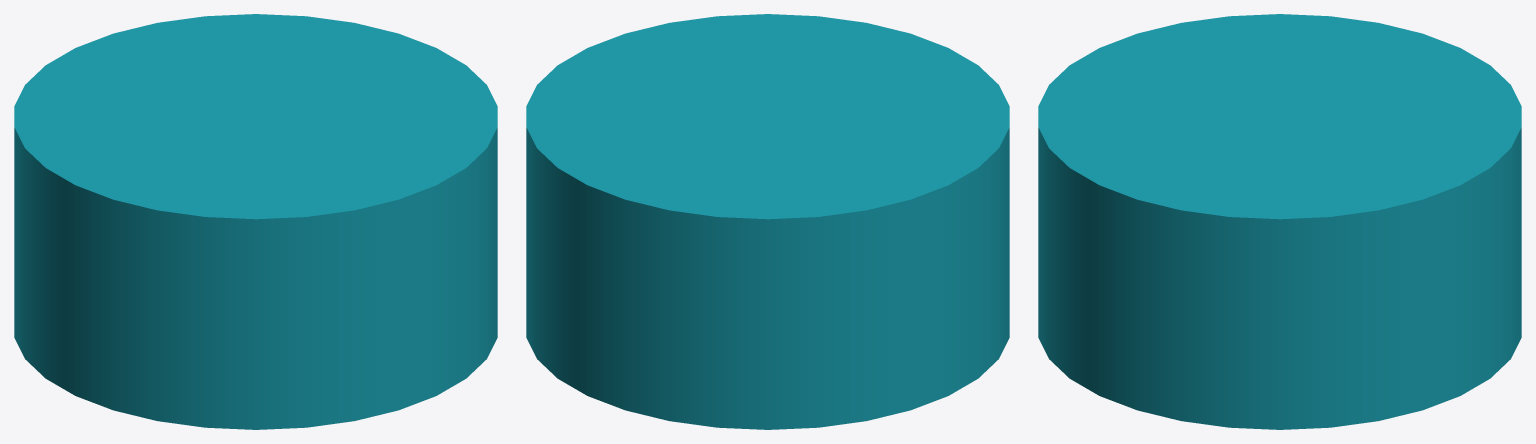
Rendered from Bumper_B_Middle.fbx.
The picture shows the model from 3 angles, left to right: view 1: azimuth 30°, elevation 25°; view 2: azimuth 150°, elevation 25°; view 3: azimuth 270°, elevation 25°; orthographic projection.
Visible parts, largest first — view 1: Bumper_B_Middle; view 2: Bumper_B_Middle; view 3: Bumper_B_Middle.
Part boxes in pixels (x1,y1,x2,y2): Bumper_B_Middle: (14, 14, 497, 429); Bumper_B_Middle: (526, 14, 1009, 429); Bumper_B_Middle: (1038, 14, 1521, 429).
Size of the model in its own units: 2.8 by 1.34 by 2.78.
